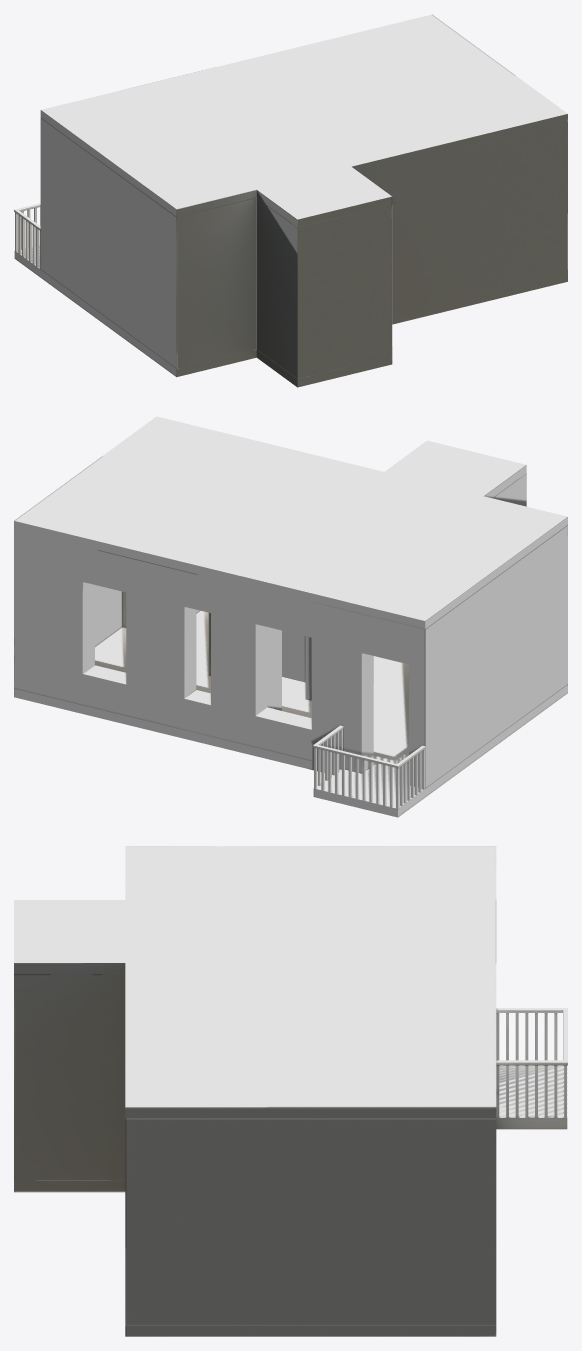
The model's file is teeny_flat_t2.glb.
The picture shows the model from 3 angles, top to bottom: view 1: azimuth 30°, elevation 25°; view 2: azimuth 150°, elevation 25°; view 3: azimuth 270°, elevation 25°; orthographic projection. The views are drawn at different scales.
Visible parts, largest first — view 1: Walls_0; view 2: Walls_0; view 3: Walls_0.
Part boxes in pixels (bbox=[...]): Walls_0: bbox=[14, 14, 567, 387]; Walls_0: bbox=[14, 416, 567, 817]; Walls_0: bbox=[14, 846, 567, 1336].
Bounding box in the file's own units: 8.72 × 3.57 × 7.81.
1 material, 1 textured.
